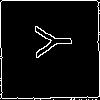Y: (24, 24, 73, 58)
